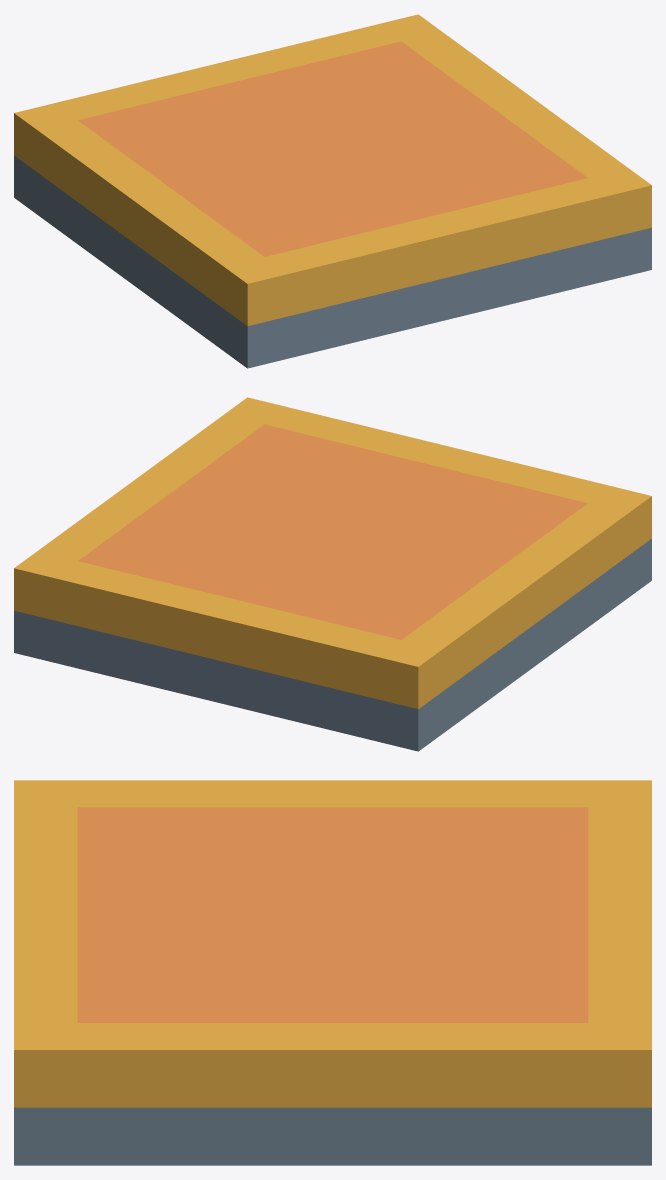
Rendered from platform2.fbx.
3 renders of one model, top to bottom at view 1: azimuth 30°, elevation 25°; view 2: azimuth 150°, elevation 25°; view 3: azimuth 270°, elevation 25°, orthographic. The views are drawn at different scales.
Visible parts, largest first — view 1: 对象; view 2: 对象; view 3: 对象.
Part boxes in pixels (box(x1,y1,x2,y2)): 对象: box(14, 14, 651, 368); 对象: box(14, 397, 651, 751); 对象: box(14, 780, 651, 1165).
Size of the model in its own units: 10 by 2 by 10.
Materials: 1 (1 with a texture image).
